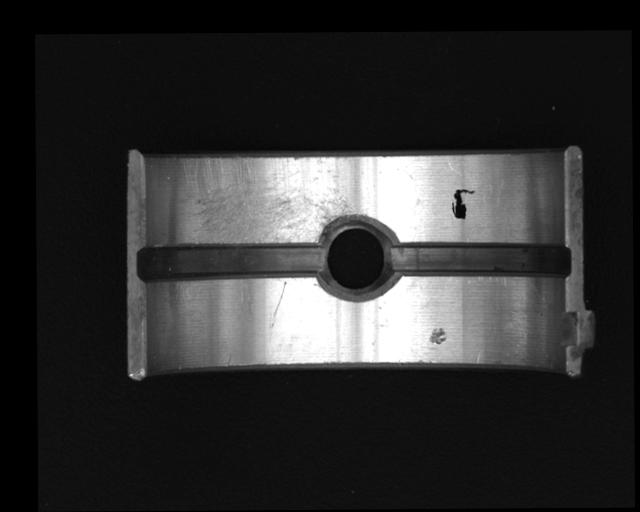blot: (450, 187, 475, 220)
bruise: (428, 327, 448, 344)
gap: (137, 240, 326, 284), (388, 240, 570, 279)
hole: (319, 214, 395, 299)
nick: (269, 279, 287, 327)
scratch: (171, 155, 352, 242)
